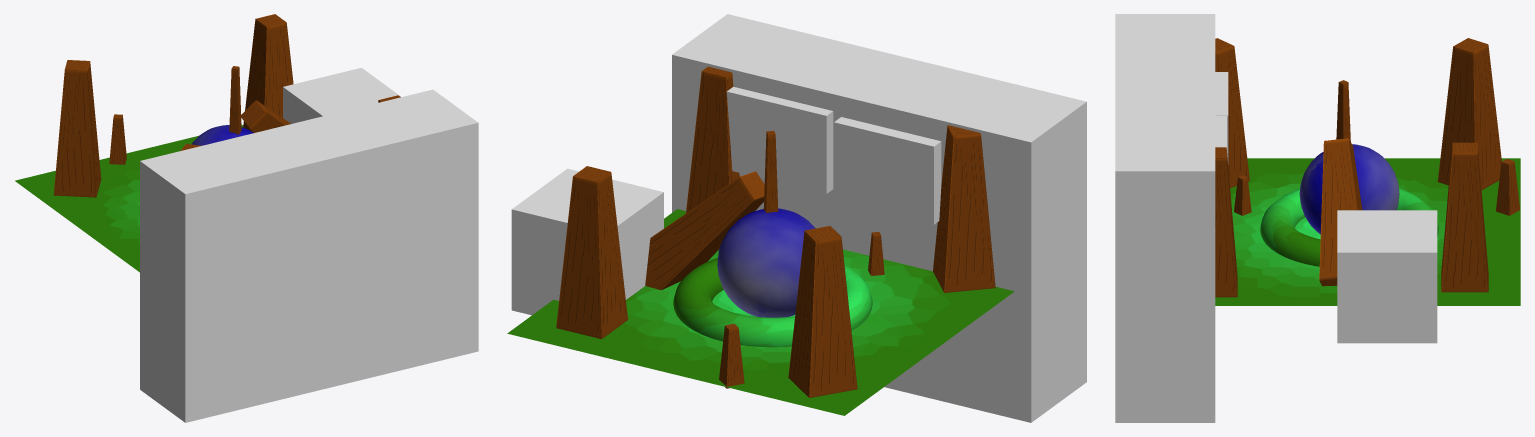
File: skene1.fbx
3 renders of one model, left to right at view 1: azimuth 30°, elevation 25°; view 2: azimuth 150°, elevation 25°; view 3: azimuth 270°, elevation 25°, orthographic. The views are drawn at different scales.
Visible parts, largest first — view 1: Cube, Plane, Cube.002, Cube.010, Cube.003, Cube.004, Cube.007, Cube.005, Sphere; view 2: Cube, Plane, Cube.010, Cube.009, Cube.003, Cube.002, Cube.008, Cube.001, Sphere, Cube.004, Torus, Cube.000 (+3 smaller); view 3: Cube, Plane, Cube.010, Cube.002, Cube.003, Cube.004, Sphere, Torus, Cube.000, Cube.001, Cube.005, Cube.007 (+3 smaller).
Boxes of the visible parts, bbox=[...] form: Cube: bbox=[140, 89, 478, 422]; Plane: bbox=[15, 125, 243, 272]; Cube.002: bbox=[53, 60, 101, 197]; Cube.010: bbox=[283, 67, 401, 123]; Cube.003: bbox=[243, 14, 293, 132]; Cube.004: bbox=[241, 100, 290, 132]; Cube.007: bbox=[229, 66, 241, 134]; Cube.005: bbox=[109, 114, 126, 164]; Sphere: bbox=[192, 125, 253, 145]; Cube: bbox=[672, 14, 1086, 422]; Plane: bbox=[507, 209, 1014, 415]; Cube.010: bbox=[511, 168, 663, 315]; Cube.009: bbox=[834, 117, 941, 224]; Cube.003: bbox=[556, 166, 627, 339]; Cube.002: bbox=[788, 226, 857, 397]; Cube.008: bbox=[726, 87, 833, 193]; Cube.001: bbox=[933, 125, 995, 292]; Sphere: bbox=[717, 208, 815, 317]; Cube.004: bbox=[645, 171, 764, 290]; Torus: bbox=[673, 258, 872, 347]; Cube.000: bbox=[686, 66, 739, 213]; Cube: bbox=[1115, 14, 1215, 422]; Plane: bbox=[1215, 158, 1520, 305]; Cube.010: bbox=[1337, 210, 1437, 343]; Cube.002: bbox=[1437, 38, 1501, 189]; Cube.003: bbox=[1441, 142, 1488, 292]; Cube.004: bbox=[1319, 138, 1362, 286]; Sphere: bbox=[1299, 144, 1399, 234]; Torus: bbox=[1260, 188, 1438, 266]; Cube.000: bbox=[1215, 147, 1237, 297]; Cube.001: bbox=[1215, 38, 1249, 188]; Cube.005: bbox=[1495, 159, 1520, 215]; Cube.007: bbox=[1336, 80, 1350, 141].
Size of the model in its own units: 820 by 587 by 811.
3 materials, 3 textured.
